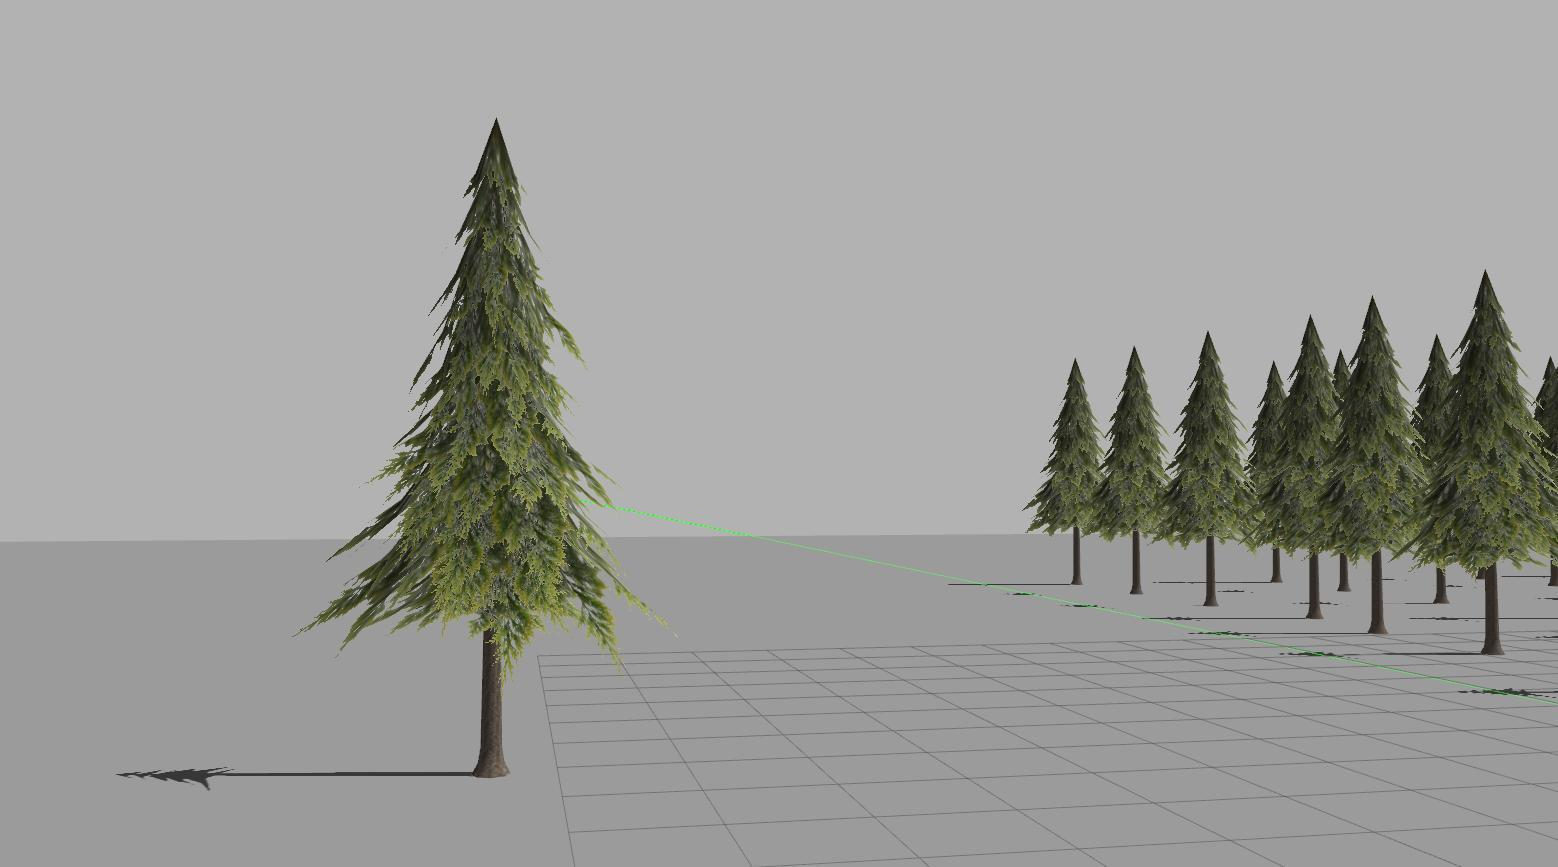tree_gazebo: (307, 125, 646, 774), (1412, 273, 1558, 652), (1323, 301, 1425, 636), (1157, 334, 1254, 608), (1262, 316, 1339, 619), (1090, 350, 1165, 597), (1026, 362, 1101, 583)
